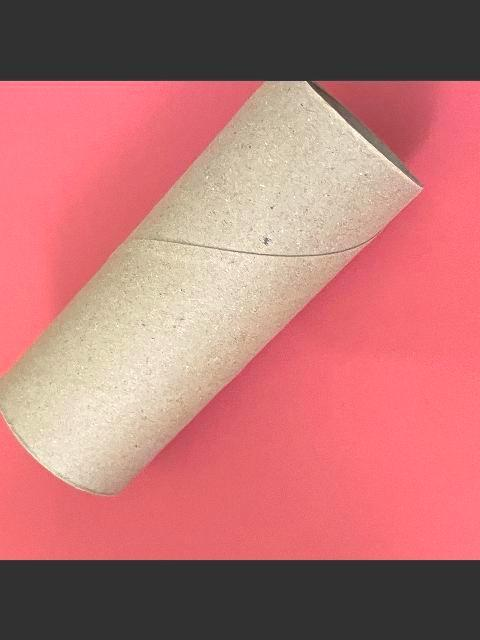tissueroll: (0, 80, 428, 498)
